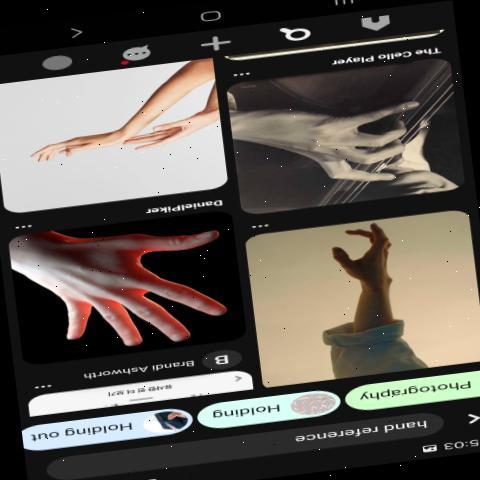Hands: (24, 225, 232, 342), (229, 96, 436, 195), (294, 224, 440, 325), (124, 108, 216, 162), (18, 128, 138, 167)
